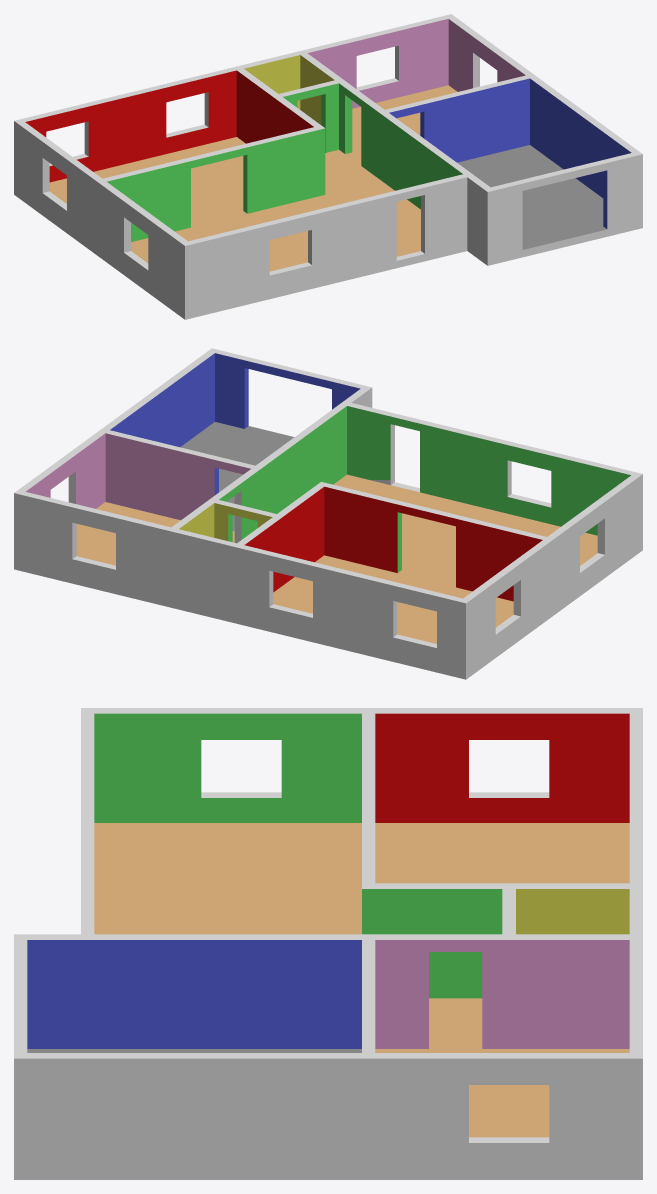
The model's file is sample_house2 (2).fbx.
3 renders of one model, top to bottom at view 1: azimuth 30°, elevation 25°; view 2: azimuth 150°, elevation 25°; view 3: azimuth 270°, elevation 25°, orthographic. The views are drawn at different scales.
Parts seen in each view (by area): view 1: block.036; view 2: block.036; view 3: block.036.
Boxes of the visible parts, x1,y1,x2,y2 form: block.036: [14, 14, 642, 319]; block.036: [14, 348, 642, 679]; block.036: [14, 708, 642, 1179].
Bounding box in the file's own units: 3100 × 500 × 2350.
